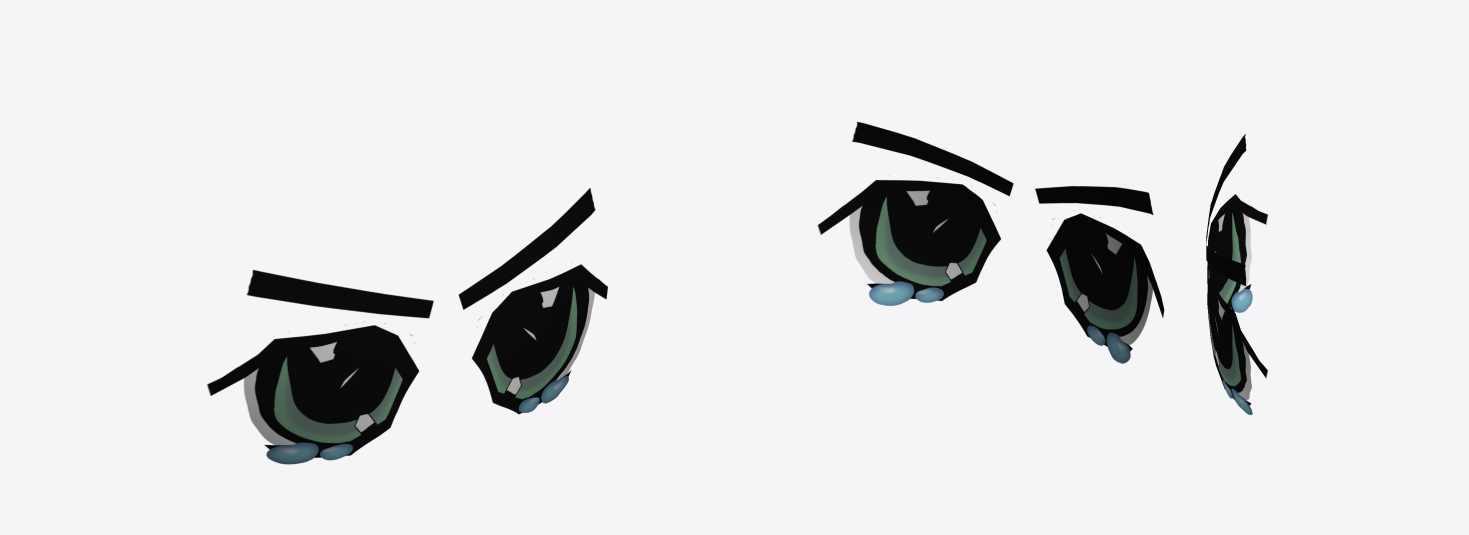
The model's file is Teary_Green.glb.
3 views of the same model, side by side, from view 1: azimuth 30°, elevation 25°; view 2: azimuth 150°, elevation 25°; view 3: azimuth 270°, elevation 25° (orthographic). The views are drawn at different scales.
Visible parts, largest first — view 1: Teary_Green; view 2: Teary_Green; view 3: Teary_Green.
Boxes of the visible parts, left/top/right/bottom form: Teary_Green: left=207, top=188, right=607, bottom=464; Teary_Green: left=817, top=122, right=1164, bottom=363; Teary_Green: left=1206, top=134, right=1267, bottom=414.
Bounding box in the file's own units: 0.8827 × 0.6239 × 0.4009.
1 material, 1 textured.
